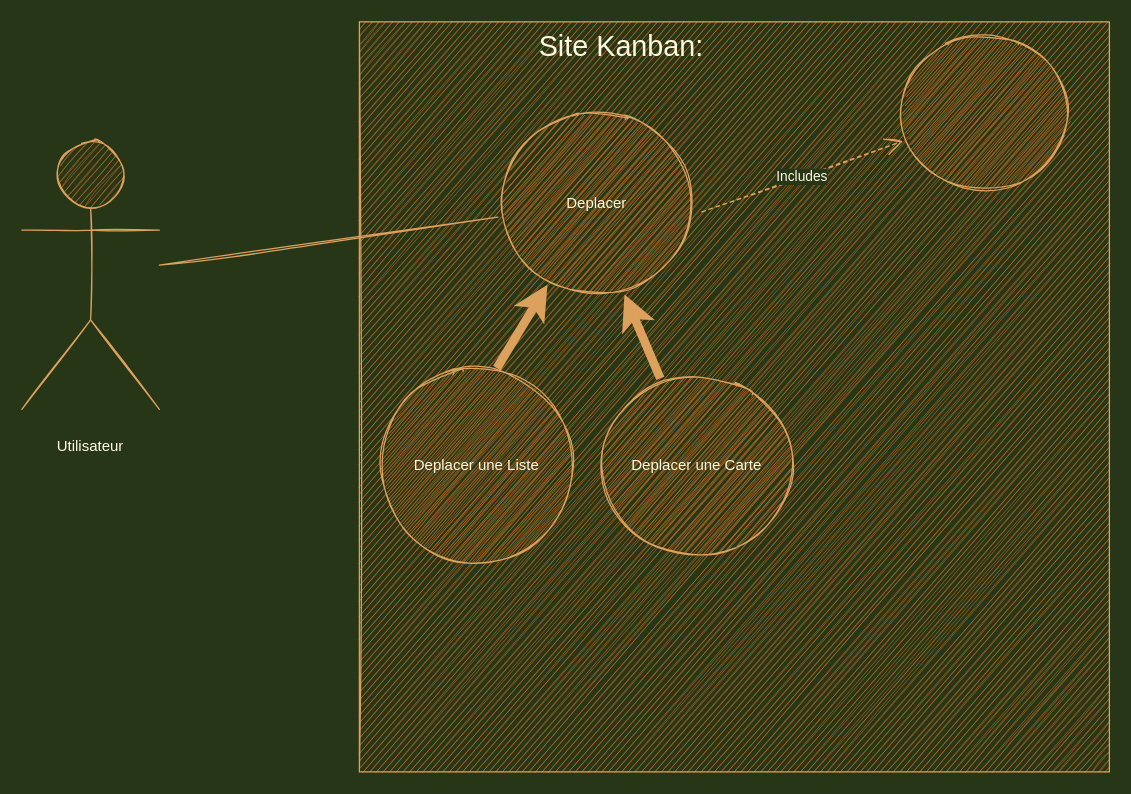
Some shapes in this 1131 by 794 pixel diagram are drawn without their labels. The box of each missing label's shape, as (x1, y1, x2, y2) in pixels:
Actor: (21, 139, 159, 409)
S'identifier: (896, 33, 1072, 191)
